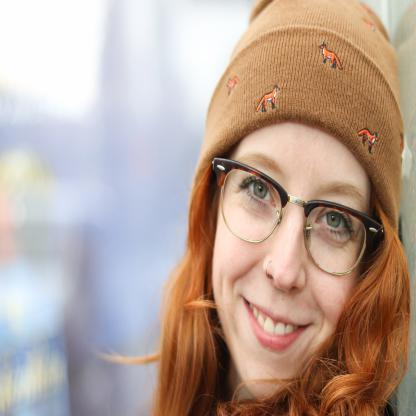Eye: (237, 170, 280, 228), (312, 197, 357, 250)
Mouth: (235, 289, 321, 355)
Nose: (262, 224, 309, 298)
